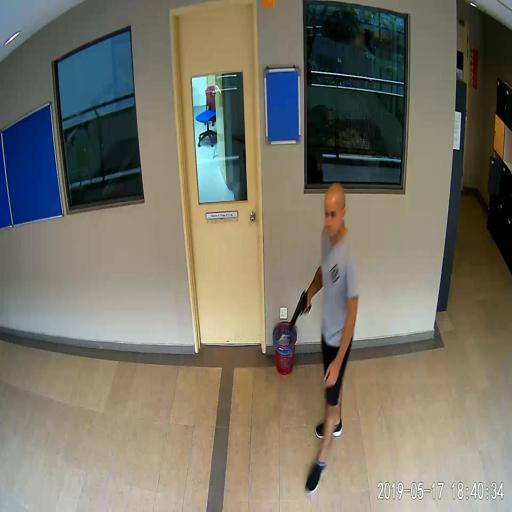pistol: (290, 290, 311, 326)
